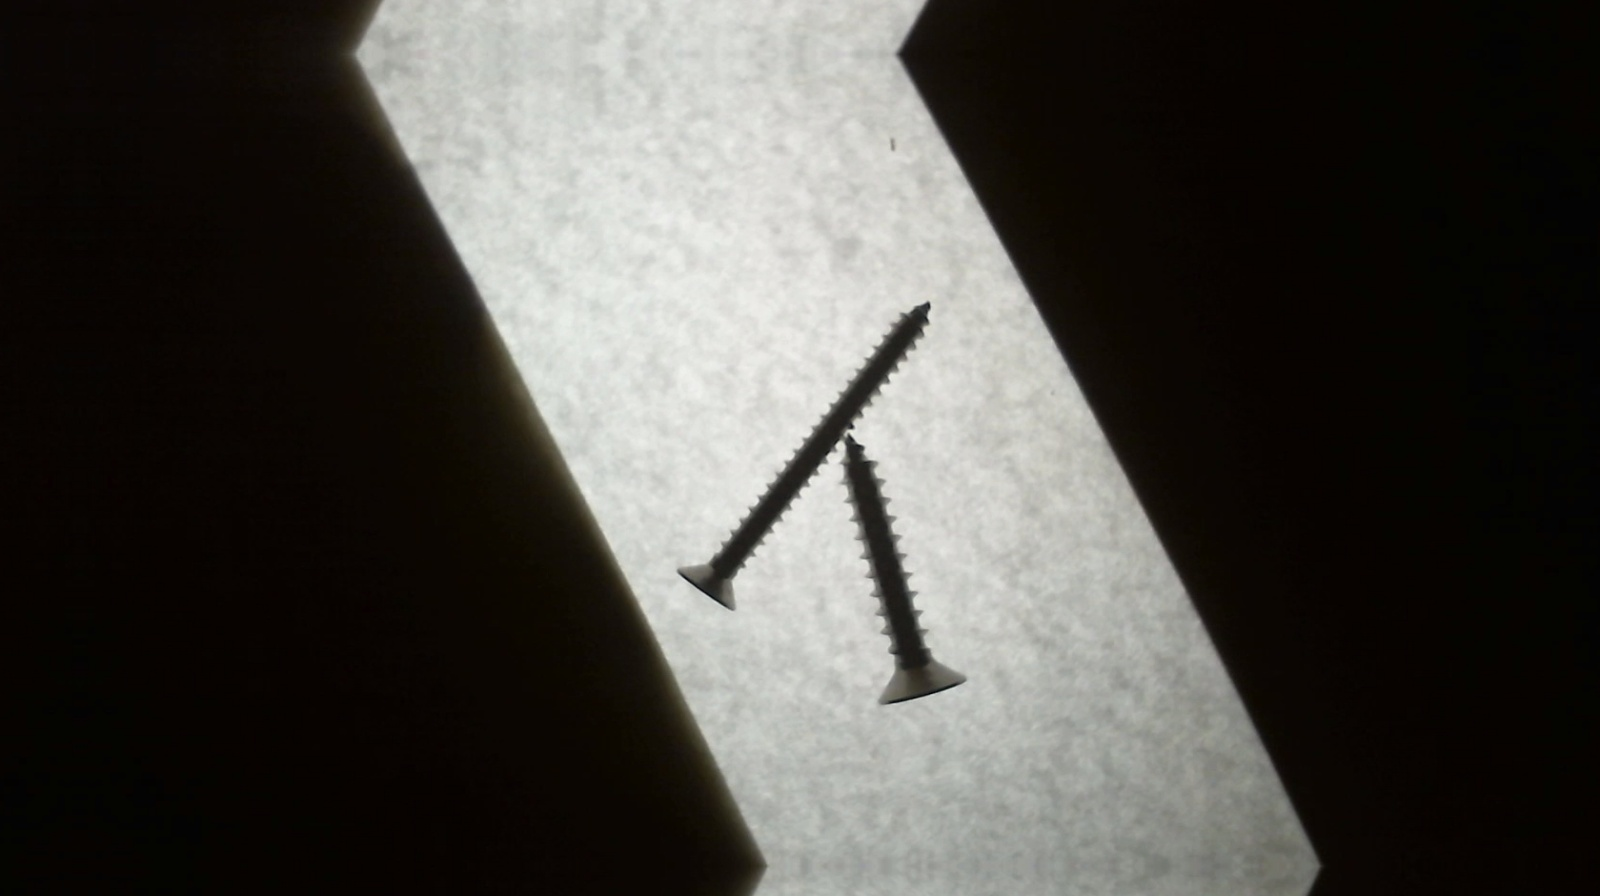S001: (838, 434, 970, 707)
S002: (675, 296, 940, 611)
